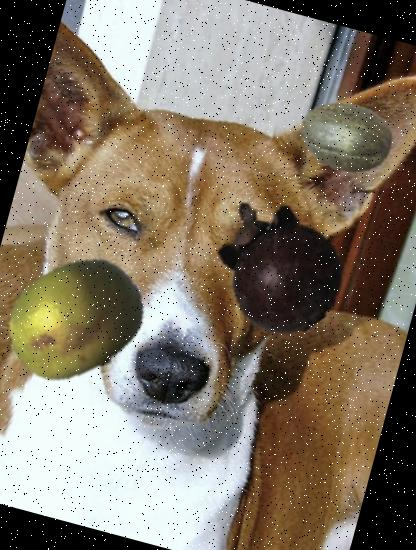Mangostan: (190, 178, 364, 352)
Melon: (288, 82, 404, 198)
Pomelo: (0, 232, 162, 405)
